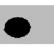correct: (3, 16, 33, 39)
